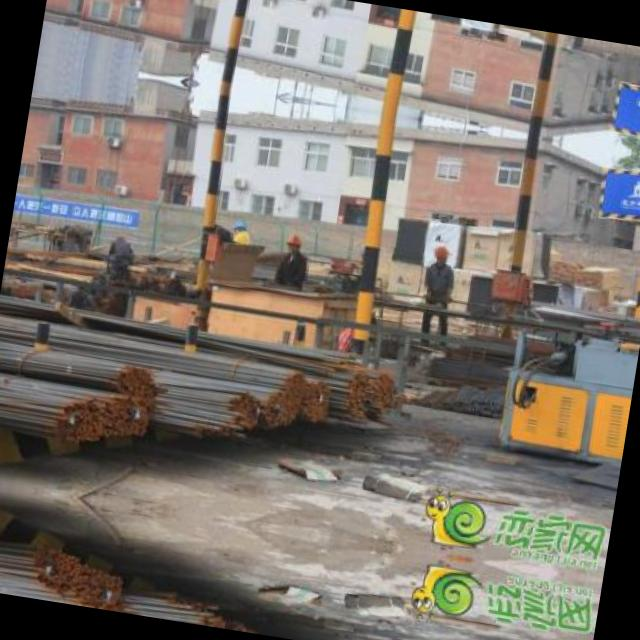helmet: (425, 241, 456, 268), (279, 232, 307, 256), (230, 215, 250, 235)
